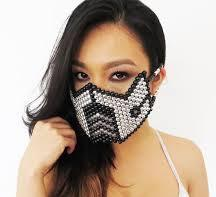OK: (67, 60, 149, 142)
